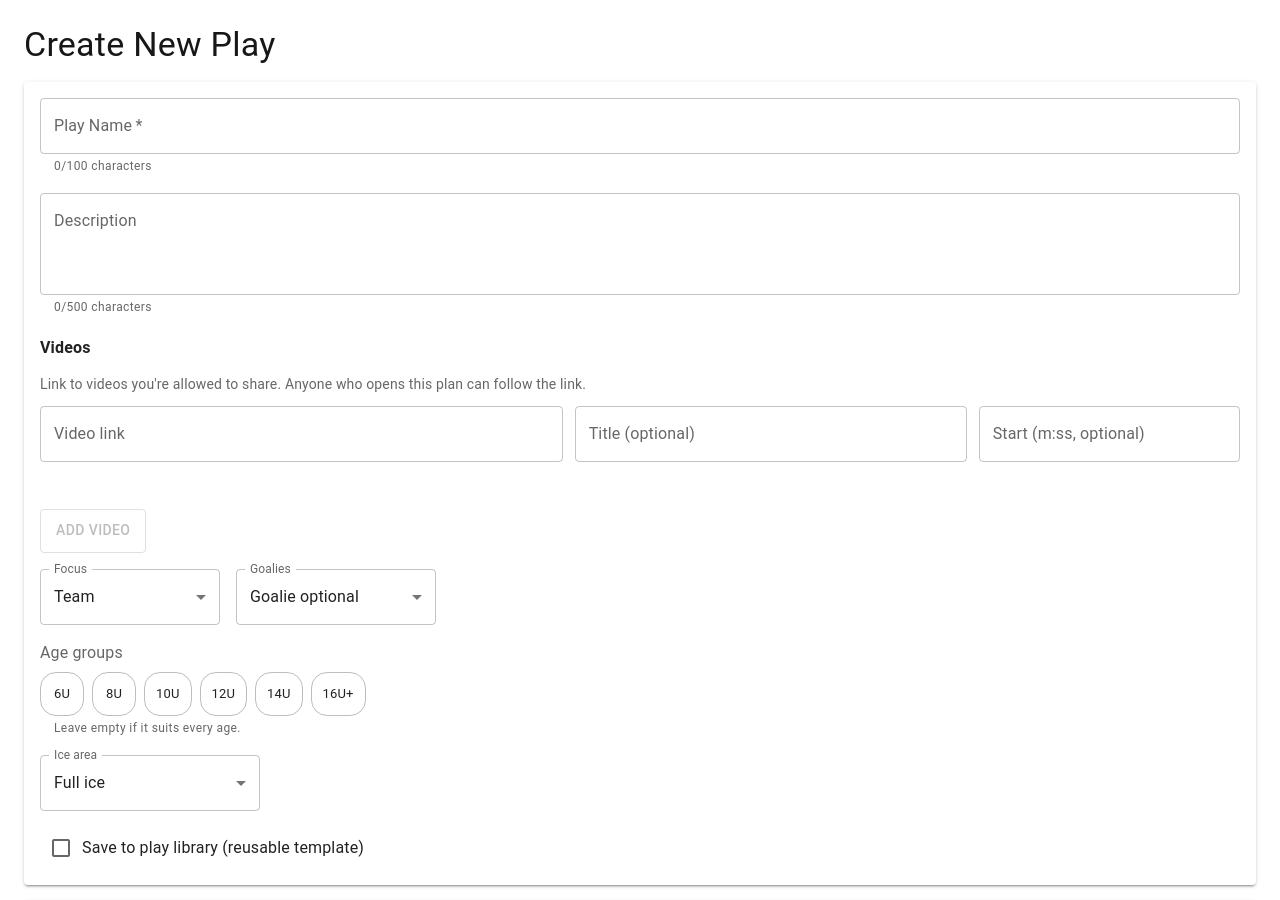
Test case: PlayEditor › Save Functionality › enables save button when name is provided
This screenshot has width=1280, height=900.
Type "Test Play" into the field labelled "Play Name *" at (640, 126), box [40,98,1240,154]
(page scrolled)
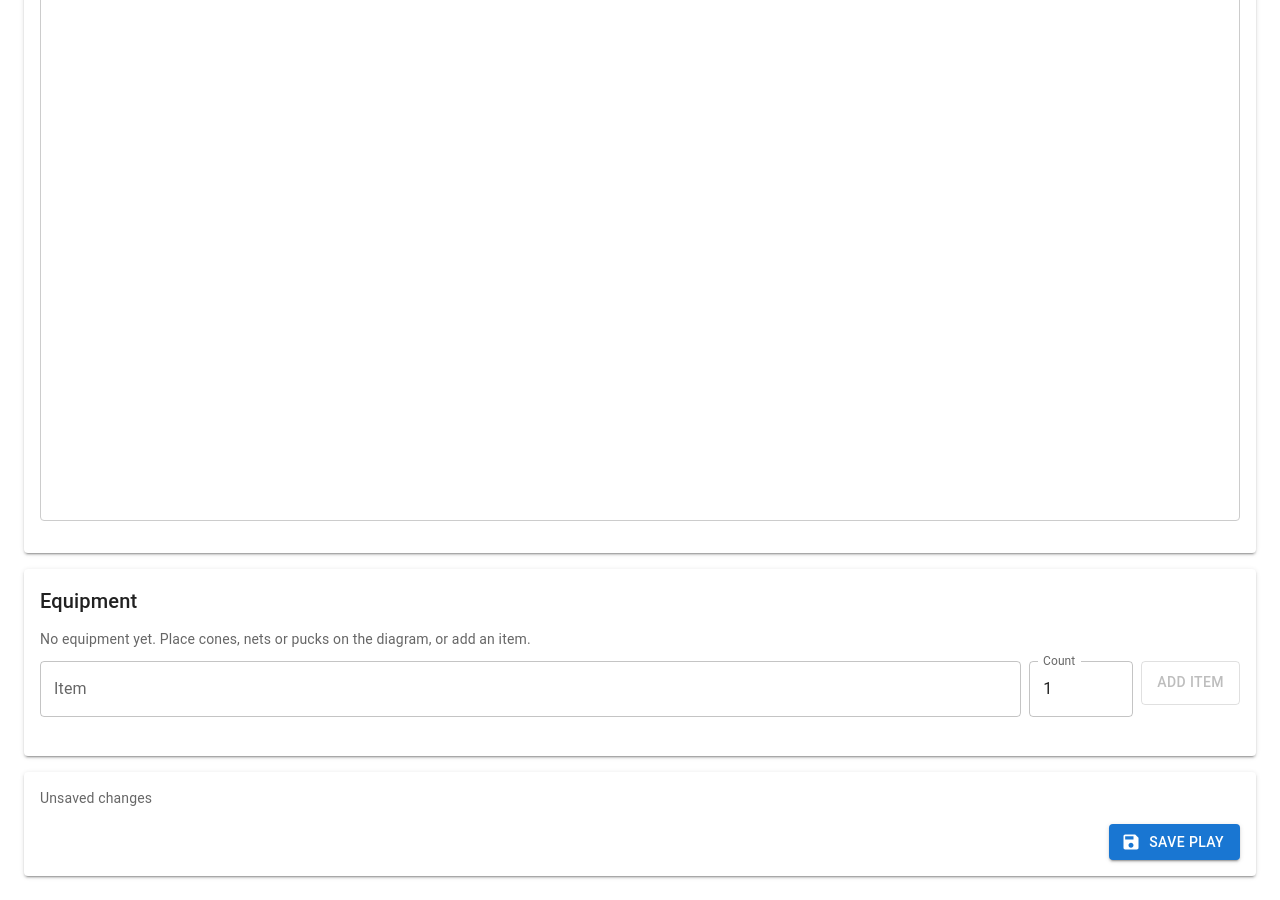
Expected: the button "Save Play" is enabled, [1109,824,1240,860]
